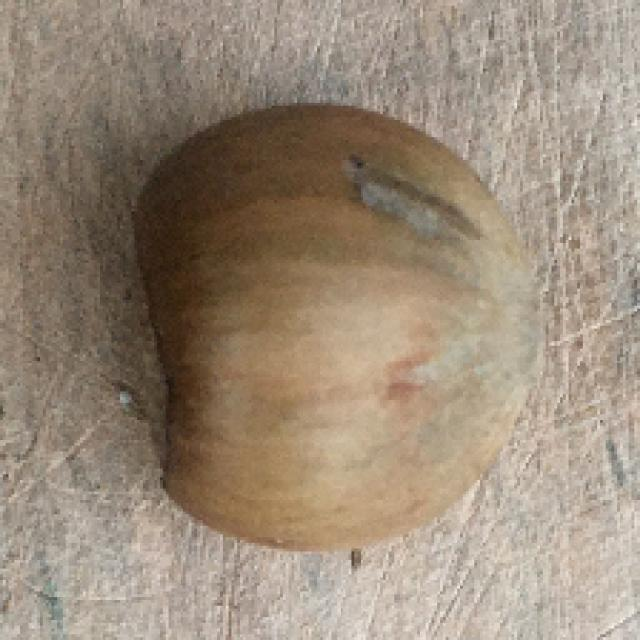qualityHazelnut: (108, 106, 540, 548)
